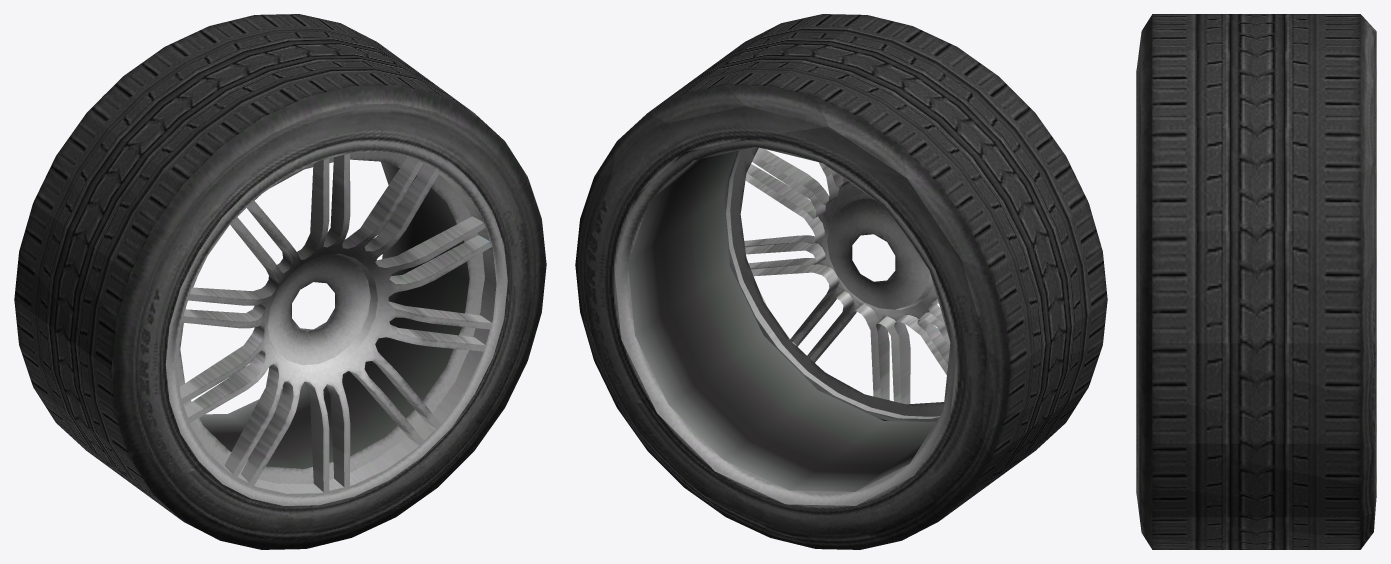
The model's file is BMW_wheel.obj.
The picture shows the model from 3 angles, left to right: view 1: azimuth 30°, elevation 25°; view 2: azimuth 150°, elevation 25°; view 3: azimuth 270°, elevation 25°; orthographic projection. The views are drawn at different scales.
Parts seen in each view (by area): view 1: Wheel; view 2: Wheel; view 3: Wheel.
Boxes of the visible parts, bbox=[...] form: Wheel: bbox=[14, 14, 546, 549]; Wheel: bbox=[575, 14, 1107, 549]; Wheel: bbox=[1136, 14, 1376, 549].
Size of the model in its own units: 5.24 by 5.2 by 2.33.
Materials: 3 (3 with a texture image).
